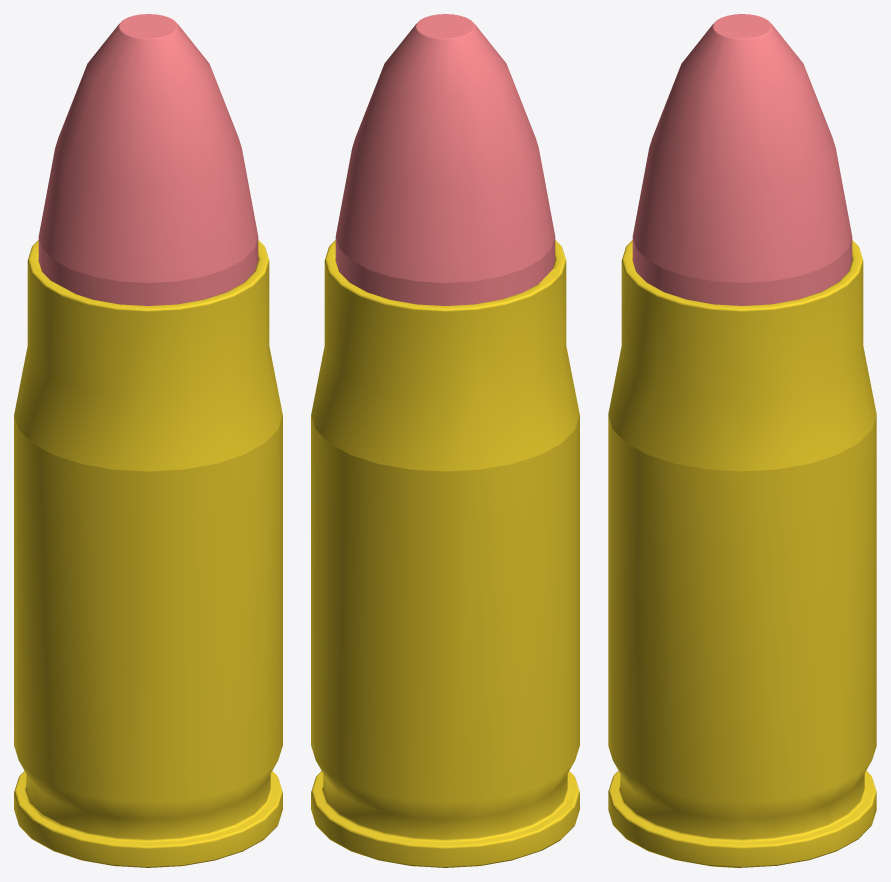
The model's file is ammo_sniper.glb.
The picture shows the model from 3 angles, left to right: view 1: azimuth 30°, elevation 25°; view 2: azimuth 150°, elevation 25°; view 3: azimuth 270°, elevation 25°; orthographic projection.
Parts seen in each view (by area): view 1: Group.001, Group; view 2: Group.001, Group; view 3: Group.001, Group.
Part boxes in pixels (x1,y1,x2,y2): Group.001: (14,240,282,867); Group: (38,14,258,305); Group.001: (311,240,579,867); Group: (335,14,555,305); Group.001: (608,240,876,867); Group: (632,14,852,305).
Bounding box in the file's own units: 0.0421 × 0.1359 × 0.0421.
